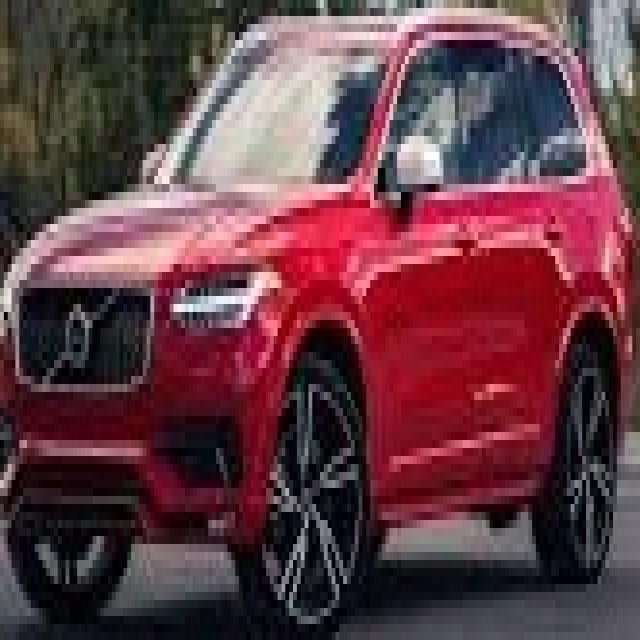red: (0, 16, 631, 584)
